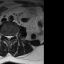CCS_normal: (8, 34, 10, 42)
LFS_stenosis: (12, 33, 14, 39)
LLS_normal: (10, 33, 12, 40)
RFS_severe_stenosis: (4, 33, 6, 39)
RLS_stenosis: (6, 33, 8, 41)
